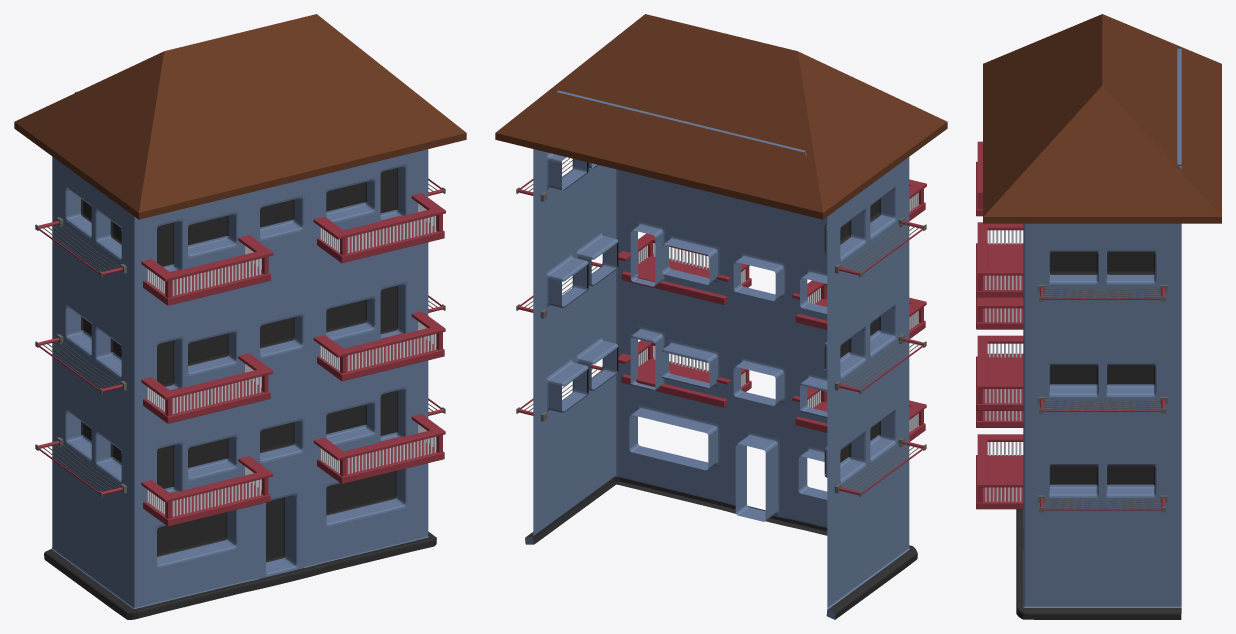
The model's file is bina1.fbx.
3 views of the same model, side by side, from view 1: azimuth 30°, elevation 25°; view 2: azimuth 150°, elevation 25°; view 3: azimuth 270°, elevation 25° (orthographic). The views are drawn at different scales.
Visible parts, largest first — view 1: bina1; view 2: bina1; view 3: bina1.
Part boxes in pixels (<box>): bina1: <box>14,14,466,619</box>; bina1: <box>495,14,947,619</box>; bina1: <box>976,14,1221,619</box>.
Bounding box in the file's own units: 11041 × 15927 × 7122.
